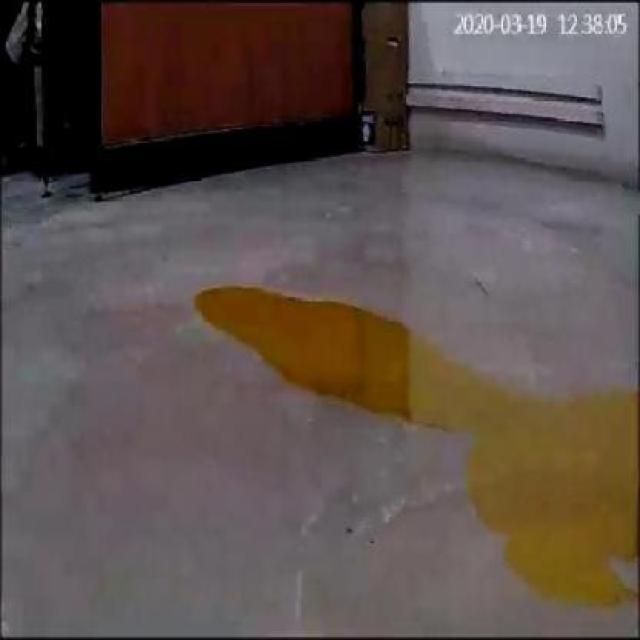spillage: (191, 287, 638, 616)
